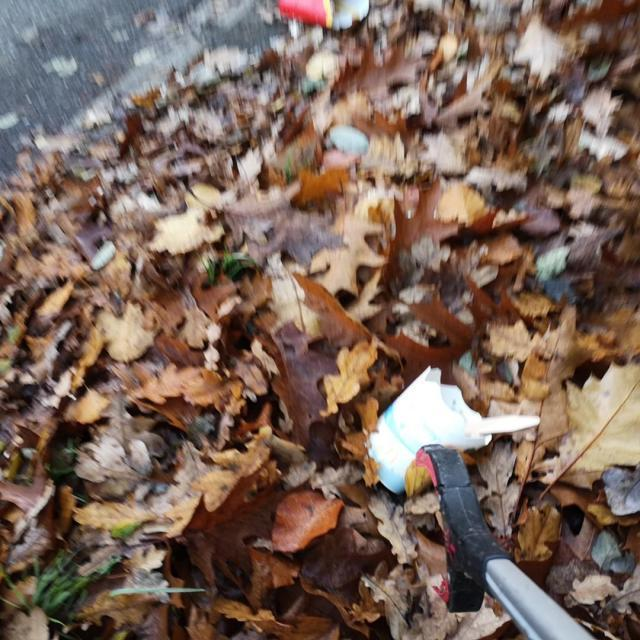Paper: (360, 364, 492, 495), (276, 0, 372, 32)
